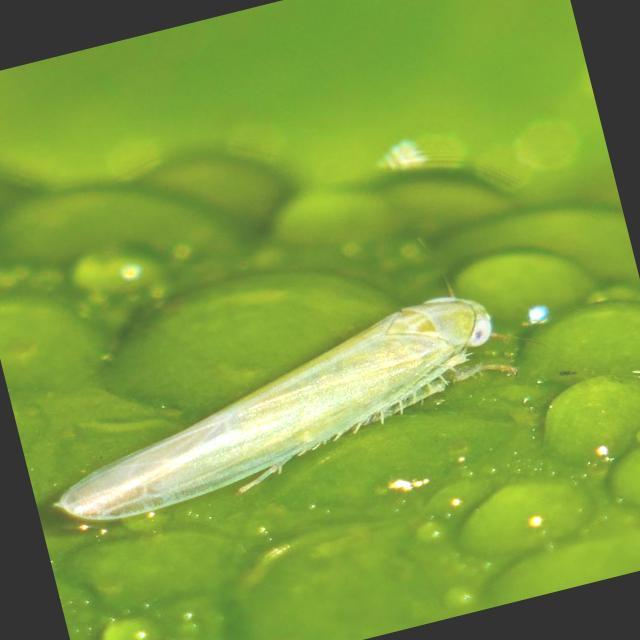green leaf hopper: (54, 297, 490, 520)
